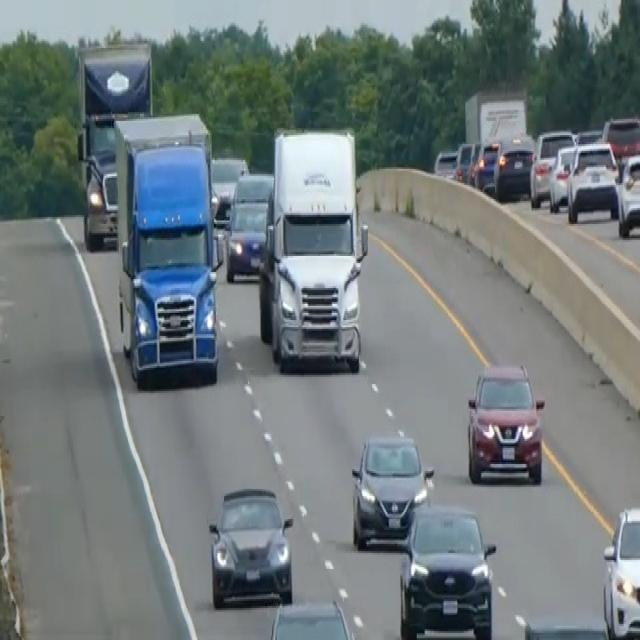car: (398, 500, 496, 638), (207, 484, 294, 608), (465, 359, 545, 485), (350, 430, 434, 548), (224, 169, 273, 283), (601, 503, 639, 638), (566, 137, 620, 222), (529, 128, 575, 208), (265, 598, 356, 638), (209, 153, 249, 224), (493, 132, 535, 199), (547, 142, 577, 212), (616, 150, 639, 238), (601, 114, 639, 160), (472, 137, 500, 192), (454, 139, 478, 183), (433, 148, 457, 180)
lorry: (111, 110, 223, 388), (257, 124, 369, 373)
